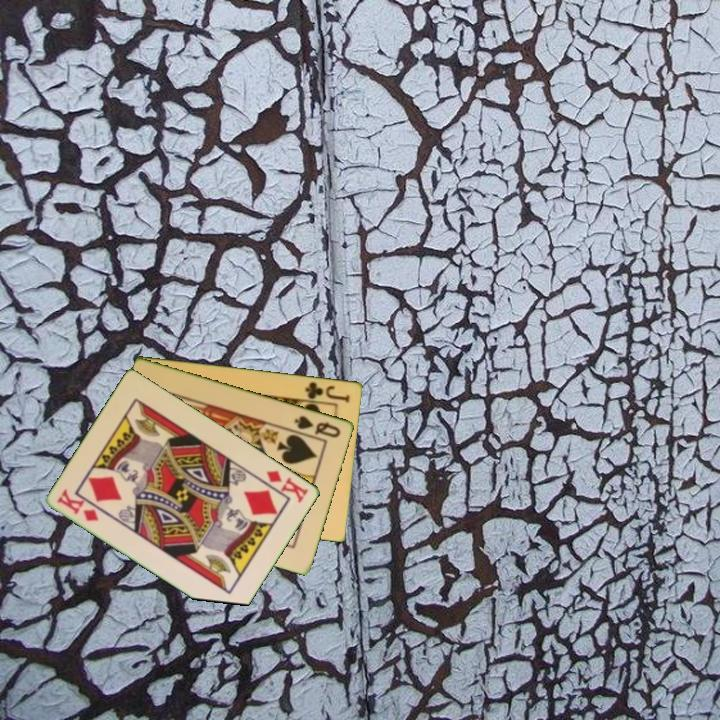Jc: (302, 378, 353, 406)
Kd: (263, 467, 312, 506), (54, 486, 102, 524)
Qs: (291, 412, 344, 440)
